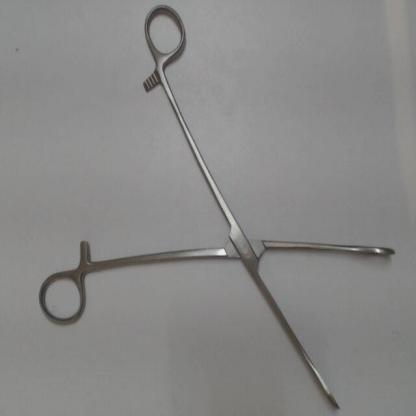Sponge Forceps: (34, 2, 400, 413)
